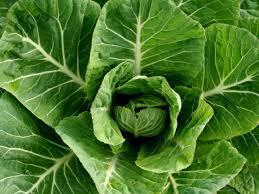Healthy-Pechay: (0, 5, 259, 183)
